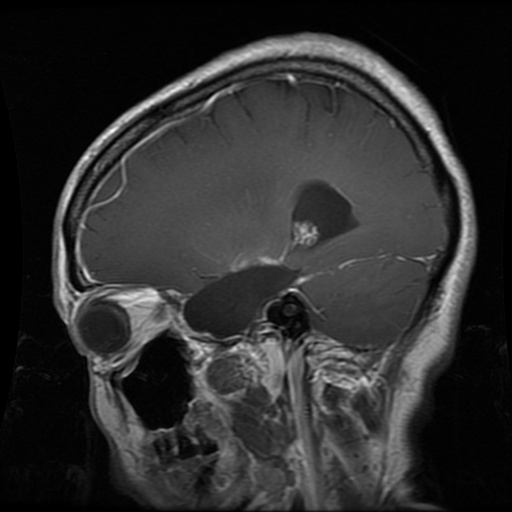glioma: (186, 182, 359, 338)
